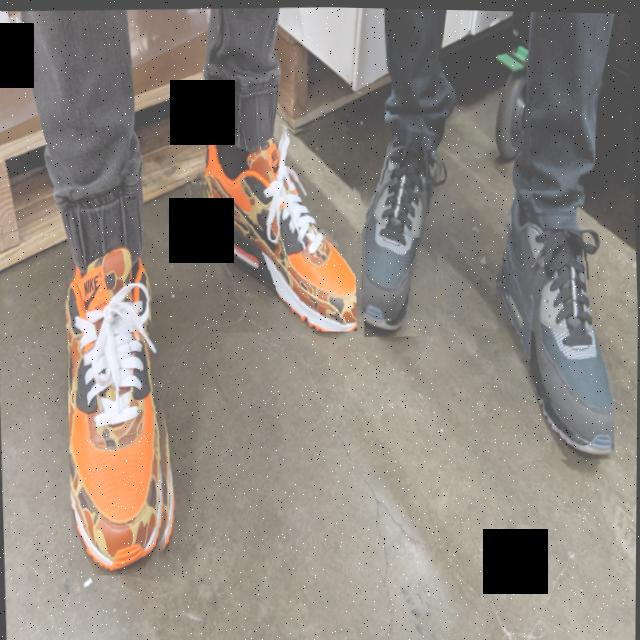shoe: (62, 240, 181, 577), (491, 170, 617, 460), (194, 118, 358, 335), (357, 116, 451, 337)
